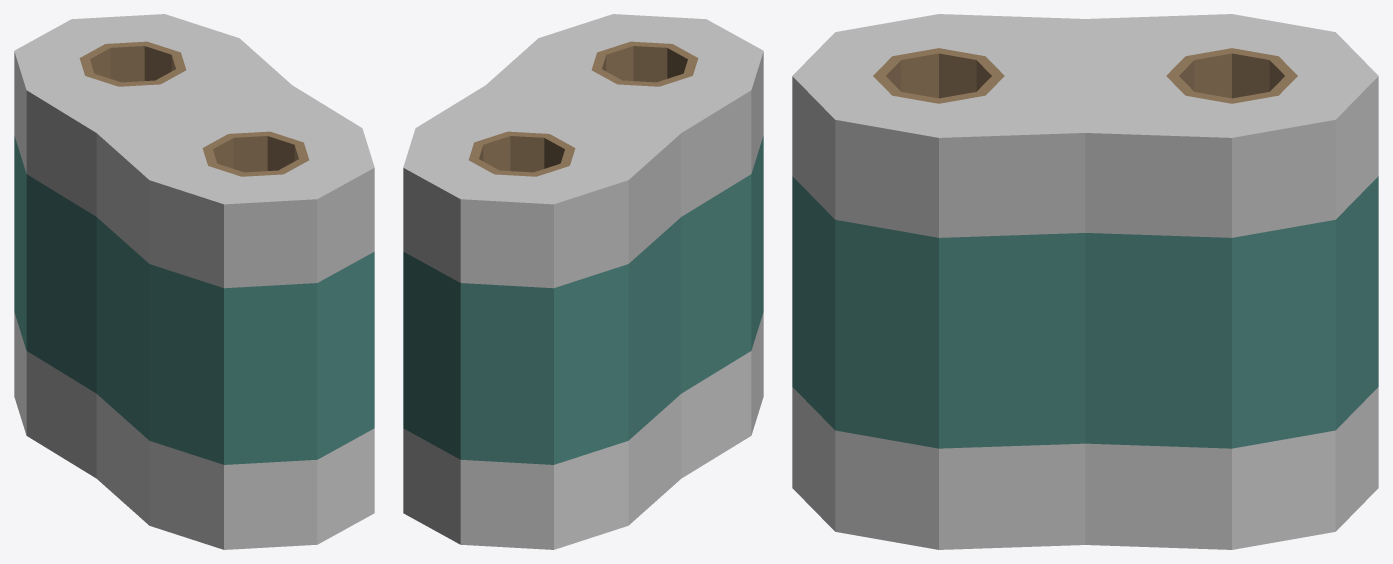
Rendered from SM_Item_ToiletRoll_04.fbx.
3 renders of one model, left to right at view 1: azimuth 30°, elevation 25°; view 2: azimuth 150°, elevation 25°; view 3: azimuth 270°, elevation 25°, orthographic. The views are drawn at different scales.
Parts seen in each view (by area): view 1: SM_Item_ToiletRoll_04; view 2: SM_Item_ToiletRoll_04; view 3: SM_Item_ToiletRoll_04.
Part boxes in pixels (x1,y1,x2,y2): SM_Item_ToiletRoll_04: [14, 14, 374, 549]; SM_Item_ToiletRoll_04: [403, 14, 763, 549]; SM_Item_ToiletRoll_04: [792, 14, 1378, 549].
Size of the model in its own units: 15.6 by 24.18 by 31.18.
